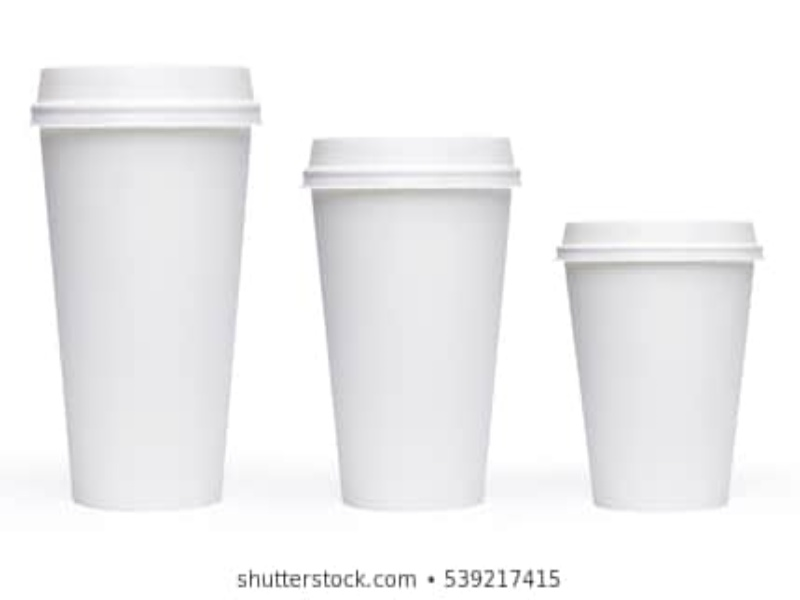coffee-lid: (304, 133, 525, 195), (32, 67, 260, 127), (553, 218, 768, 267)
plastic-cup: (26, 61, 265, 512), (304, 131, 524, 514), (549, 215, 766, 516)
